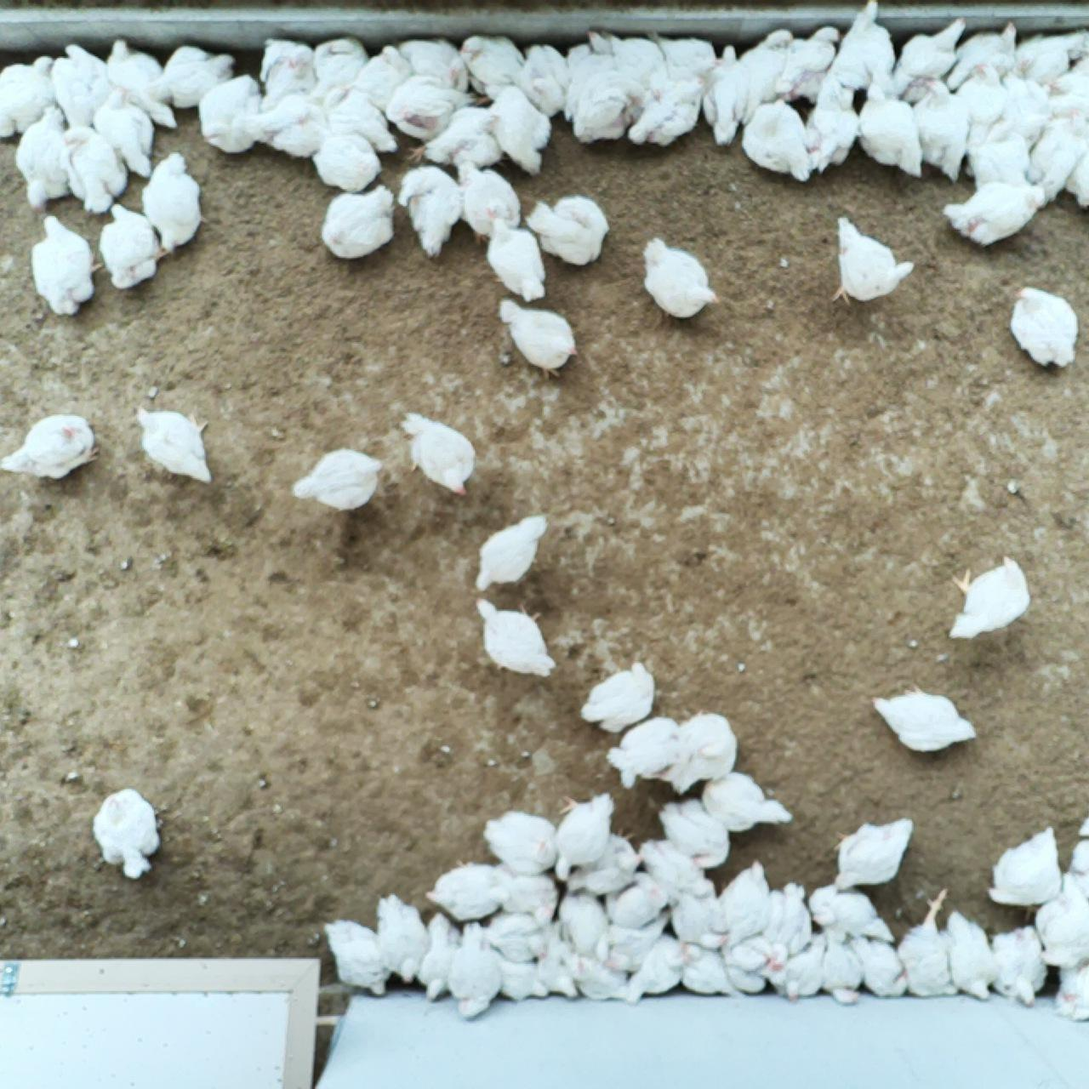chicken: (943, 546, 1033, 645), (851, 62, 925, 180), (476, 80, 559, 182), (829, 213, 919, 307), (871, 682, 982, 755), (27, 212, 105, 315), (893, 884, 962, 999), (469, 592, 557, 682), (939, 178, 1050, 249), (548, 784, 623, 889), (398, 408, 482, 501), (657, 707, 745, 795), (493, 296, 583, 381), (0, 409, 104, 482), (797, 71, 866, 179), (884, 16, 968, 103), (640, 234, 720, 325), (984, 819, 1066, 907), (1009, 281, 1085, 375), (469, 512, 552, 598), (1022, 102, 1089, 207), (290, 442, 385, 516), (89, 785, 162, 881), (404, 101, 507, 169), (137, 150, 206, 251), (381, 73, 485, 140), (104, 38, 179, 130), (626, 69, 712, 149), (737, 96, 815, 184), (578, 657, 663, 737), (396, 162, 466, 259), (526, 194, 615, 270), (12, 101, 73, 211), (824, 0, 900, 88), (240, 84, 328, 160), (133, 405, 215, 486), (907, 76, 970, 180), (801, 880, 897, 947), (483, 211, 552, 304), (145, 43, 238, 112), (606, 714, 687, 793), (317, 183, 400, 260), (98, 200, 168, 291), (832, 815, 915, 891), (768, 20, 842, 105), (444, 919, 506, 1020), (731, 27, 796, 123), (941, 19, 1023, 95), (455, 157, 524, 247), (59, 125, 128, 215), (700, 766, 792, 833), (569, 66, 648, 144), (595, 902, 676, 977), (562, 827, 645, 900), (45, 40, 113, 129), (697, 36, 750, 150), (636, 835, 718, 908), (1030, 867, 1089, 968), (939, 911, 1001, 1007), (456, 31, 530, 111), (620, 936, 703, 1007), (92, 85, 156, 177), (373, 889, 433, 986), (983, 923, 1048, 1012), (323, 915, 395, 995), (308, 87, 396, 152), (759, 876, 817, 974), (657, 798, 732, 873), (199, 71, 267, 153), (985, 74, 1060, 148), (718, 860, 777, 952), (337, 43, 415, 111), (481, 808, 561, 874), (0, 52, 60, 140), (1008, 22, 1089, 87), (309, 124, 384, 192), (252, 36, 319, 112), (673, 939, 747, 1007), (425, 860, 503, 924), (952, 58, 1004, 154), (305, 32, 373, 105), (844, 930, 910, 1005), (562, 37, 620, 122), (418, 908, 469, 1004), (514, 40, 573, 121), (767, 928, 829, 1005), (486, 864, 562, 924), (395, 33, 471, 92), (584, 27, 667, 81), (666, 875, 724, 951), (721, 934, 788, 999), (966, 127, 1033, 192), (650, 30, 723, 87), (560, 947, 631, 1005), (820, 926, 868, 1009), (606, 869, 673, 927), (535, 921, 583, 1001), (559, 882, 610, 957), (486, 944, 550, 1003), (483, 910, 549, 964), (1046, 951, 1089, 1023), (1044, 55, 1089, 111), (1066, 813, 1089, 895), (1063, 146, 1089, 210)
